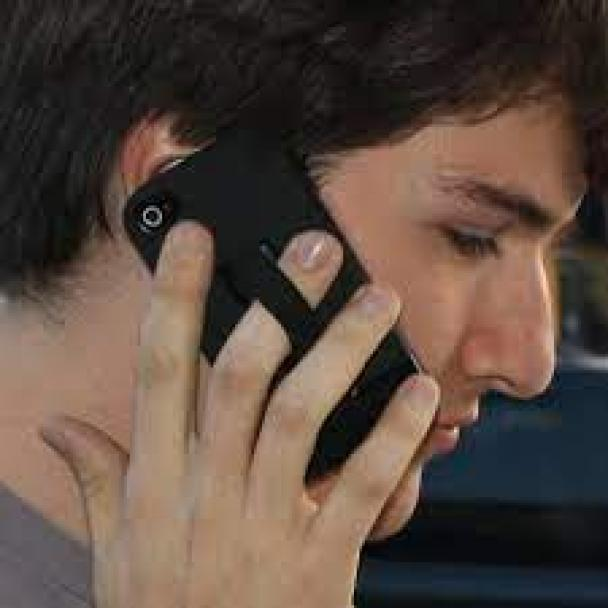Handphone: (119, 110, 445, 513)
